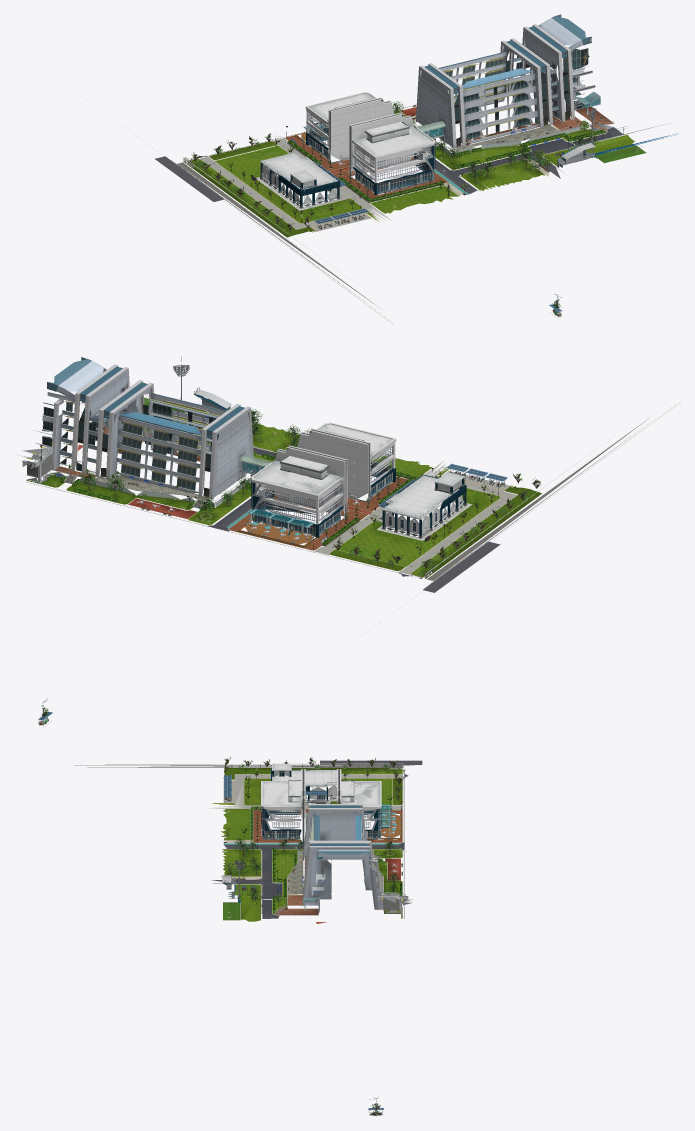
The model's file is raimonS0.glb.
The picture shows the model from 3 angles, top to bottom: view 1: azimuth 30°, elevation 25°; view 2: azimuth 150°, elevation 25°; view 3: azimuth 270°, elevation 25°; orthographic projection. The views are drawn at different scales.
Visible parts, largest first — view 1: w40h001__0__169__0, w40h003__0__227__0, w40g001__1__168__0, w40h010__4__263__0, w40g002__2__305__0, w40g002__10__313__0, w40g001__0__167__0, w40g002__21__323__0, w40h003__28__249__0, tr004__0__940__0, w40h001f__1__547__0, w40h001__13__181__0 (+6 smaller); view 2: w40h001__0__169__0, w40h003__0__227__0, w40g001__1__168__0, w40h010__4__263__0, w40g002__2__305__0, w40h001r__1__555__0, w40g002__10__313__0, w40g001__0__167__0, w40g002__21__323__0, w40h003__28__249__0, w40g000__15__342__0, w40h001__15__183__0 (+3 smaller); view 3: w40h001__0__169__0, w40g001__1__168__0, w40h003__0__227__0, w40g002__10__313__0, w40h010__4__263__0, w40g002__2__305__0, w40g001__0__167__0, w40g000__15__342__0, w40h021__12__220__0, w40h003__28__249__0, w40g002__21__323__0, w40h001__15__183__0 (+1 smaller).
Part boxes in pixels (x1,y1,x2,y2): w40h001__0__169__0: [411, 14, 614, 156]; w40h003__0__227__0: [294, 92, 435, 195]; w40g001__1__168__0: [184, 85, 606, 237]; w40h010__4__263__0: [260, 151, 346, 208]; w40g002__2__305__0: [199, 138, 549, 231]; w40g002__10__313__0: [155, 106, 623, 201]; w40g001__0__167__0: [171, 96, 606, 309]; w40g002__21__323__0: [285, 135, 447, 199]; w40h003__28__249__0: [309, 120, 434, 194]; tr004__0__940__0: [418, 124, 597, 180]; w40h001f__1__547__0: [463, 80, 530, 139]; w40h001__13__181__0: [461, 107, 614, 143]; w40h001__0__169__0: [27, 357, 271, 507]; w40h003__0__227__0: [237, 422, 396, 547]; w40g001__1__168__0: [26, 422, 541, 577]; w40h010__4__263__0: [378, 472, 466, 538]; w40g002__2__305__0: [37, 421, 516, 574]; w40h001r__1__555__0: [66, 402, 198, 490]; w40g002__10__313__0: [26, 422, 500, 592]; w40g001__0__167__0: [56, 413, 662, 583]; w40g002__21__323__0: [229, 476, 407, 550]; w40h003__28__249__0: [252, 465, 392, 536]; w40g000__15__342__0: [427, 418, 648, 580]; w40h001__15__183__0: [94, 443, 208, 500]; w40h001__0__169__0: [274, 804, 408, 917]; w40g001__1__168__0: [213, 767, 402, 918]; w40h003__0__227__0: [261, 769, 401, 841]; w40g002__10__313__0: [211, 760, 422, 918]; w40h010__4__263__0: [270, 763, 336, 804]; w40g002__2__305__0: [208, 774, 402, 914]; w40g001__0__167__0: [105, 764, 414, 914]; w40g000__15__342__0: [74, 765, 403, 767]; w40h021__12__220__0: [234, 884, 260, 921]; w40h003__28__249__0: [262, 808, 380, 839]; w40g002__21__323__0: [253, 809, 402, 842]; w40h001__15__183__0: [287, 854, 383, 894].
Size of the model in its own units: 199 by 133 by 308.
167 materials, 166 textured.
